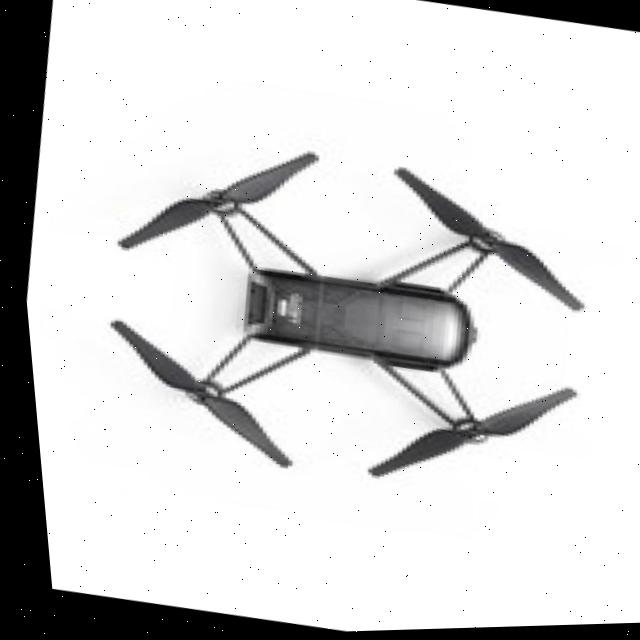drones: (44, 89, 640, 540)
